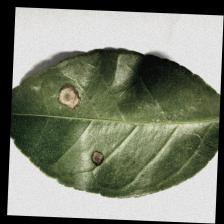canker: (47, 75, 110, 169)
